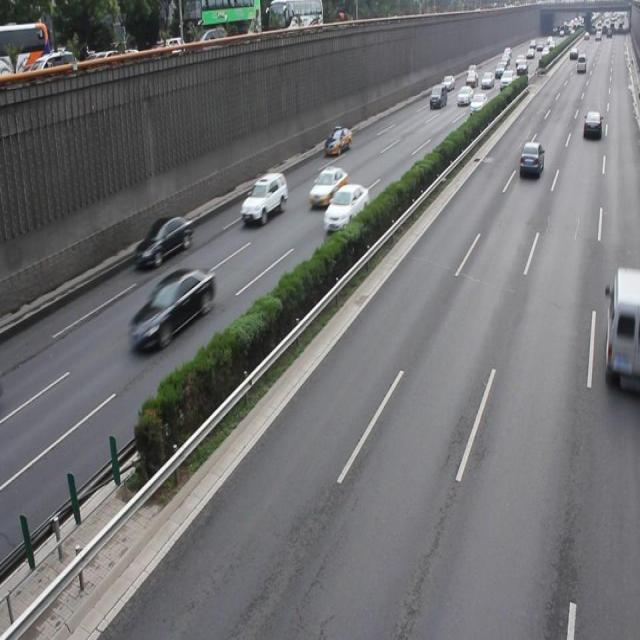car: (128, 267, 215, 353), (604, 268, 640, 392), (134, 212, 192, 266), (240, 170, 288, 225), (322, 183, 369, 234), (309, 166, 347, 206), (518, 140, 543, 176), (324, 125, 352, 156)
